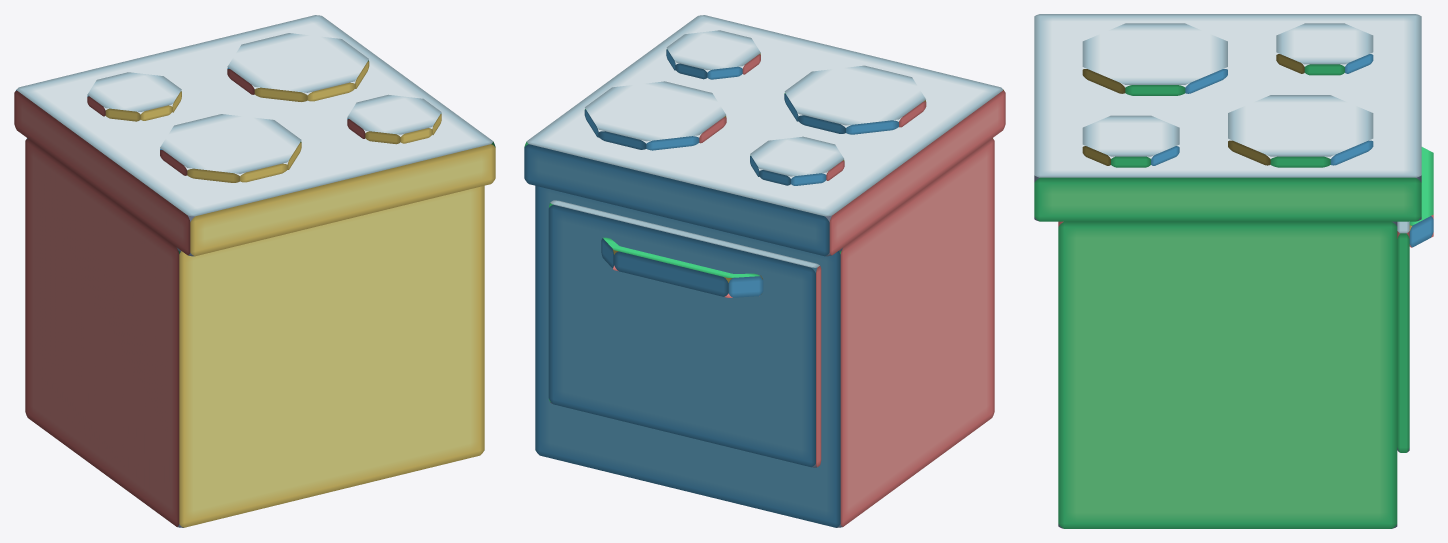
File: oven.obj
3 renders of one model, left to right at view 1: azimuth 30°, elevation 25°; view 2: azimuth 150°, elevation 25°; view 3: azimuth 270°, elevation 25°, orthographic. The views are drawn at different scales.
Parts seen in each view (by area): view 1: base, board, cylinder; view 2: base, door, board, cylinder, handle; view 3: base, board, cylinder, door, handle.
Part boxes in pixels (x1=…): base: x1=25, y1=138, x2=484, y2=527; board: x1=14, y1=15, x2=495, y2=256; cylinder: x1=87, y1=33, x2=441, y2=182; base: x1=535, y1=138, x2=994, y2=527; door: x1=548, y1=200, x2=821, y2=467; board: x1=524, y1=15, x2=1005, y2=256; cylinder: x1=584, y1=30, x2=926, y2=185; handle: x1=601, y1=237, x2=763, y2=297; base: x1=1058, y1=221, x2=1397, y2=528; board: x1=1034, y1=14, x2=1421, y2=221; cylinder: x1=1082, y1=23, x2=1373, y2=167; door: x1=1397, y1=221, x2=1409, y2=452; handle: x1=1409, y1=147, x2=1433, y2=247.
Bounding box in the file's own units: 1 × 1.03 × 1.03.
Materials: 1 (1 with a texture image).
